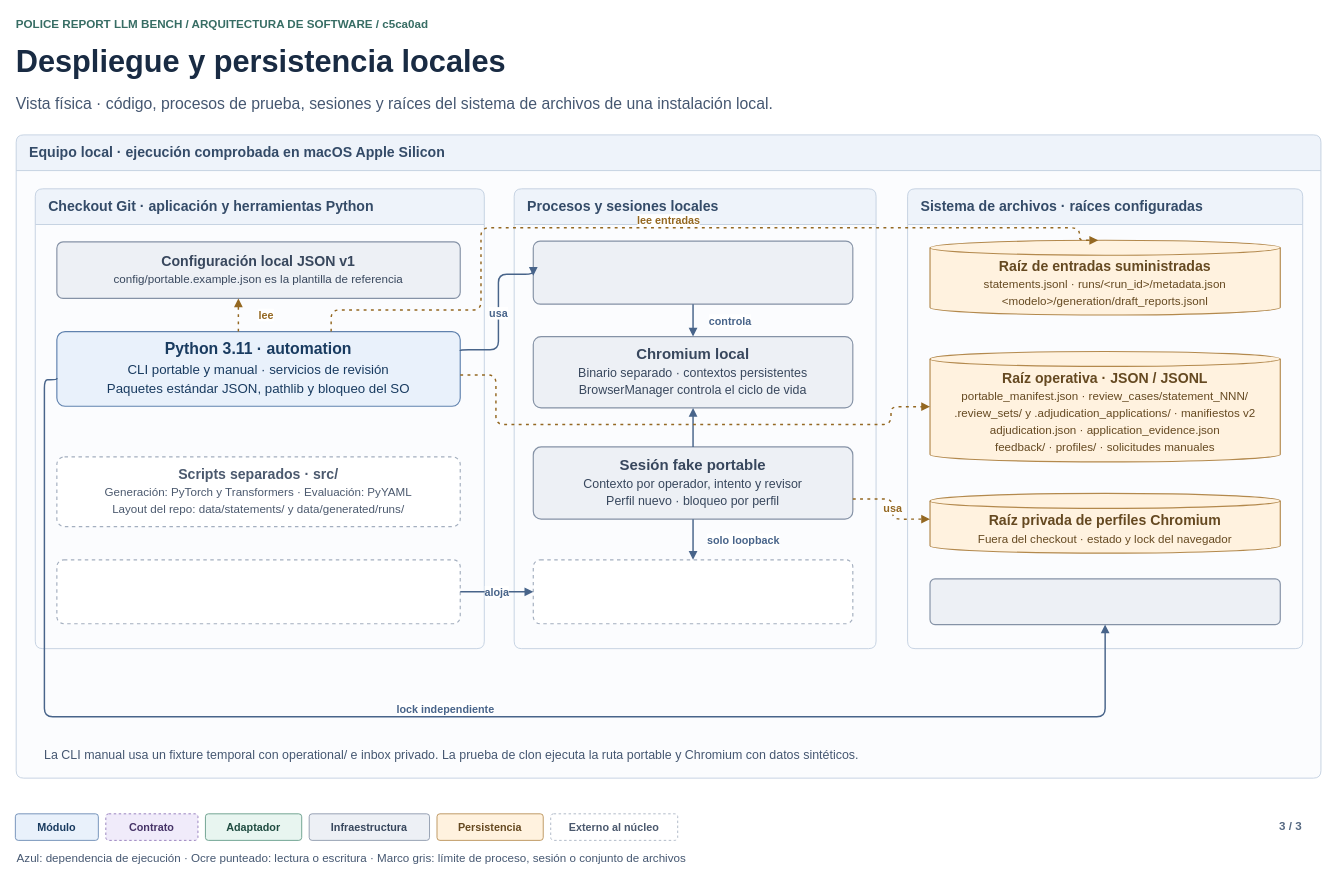
The diagram is 1336 pixels wide and 883 high, and some of its shapes have lost their labels. Here are the shapes that lost their labels. From the top down, the centre of each, then its label:
At (x=692, y=272): "Playwright 1.60.0 requirements-automation.txt".
At (x=258, y=591): "Herramientas de prueba · tests/ Fixtures de inputs y páginas · entorno pytest".
At (x=692, y=591): "Servidor HTTP de pruebas 127.0.0.1 · tests/helpers/fake_reviewer_sites.py".
At (x=1104, y=601): "Lease del workflow Ruta separada de datos y perfiles".
